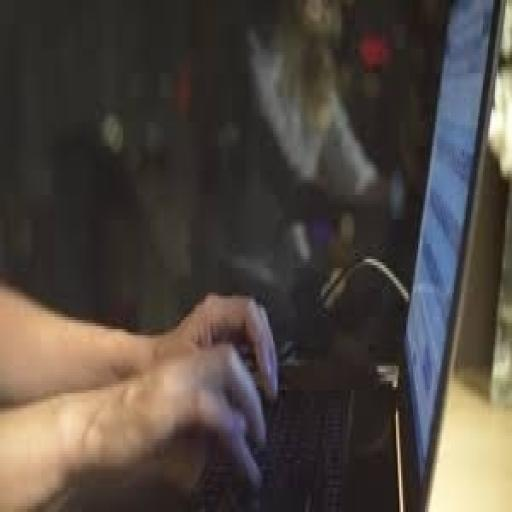using_laptop: (134, 28, 512, 511)
